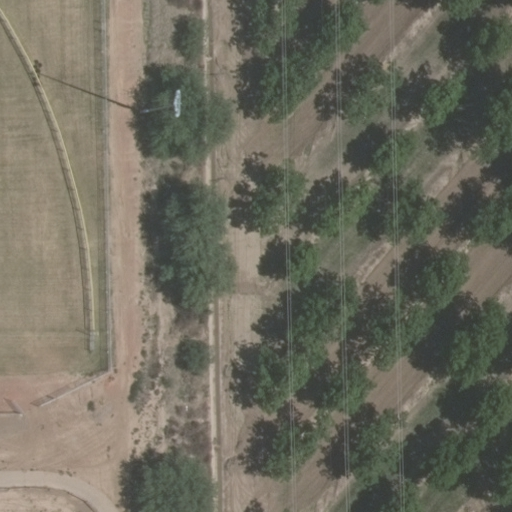DT: (137, 90, 184, 116)
